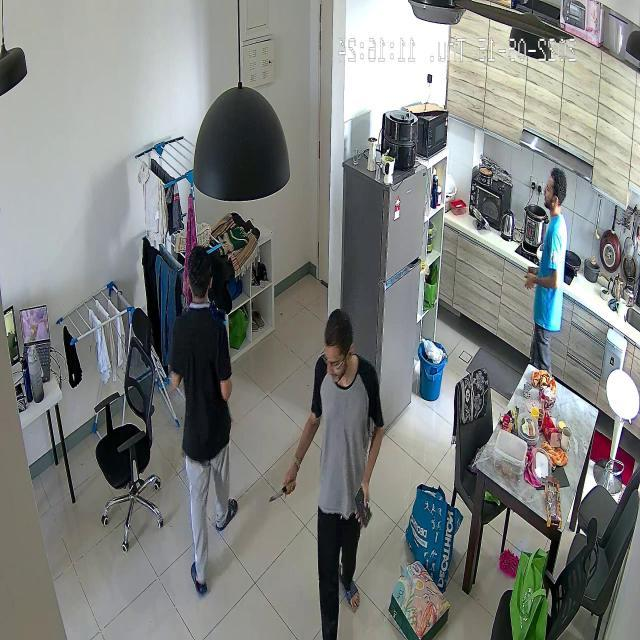Knife: (266, 475, 306, 517)
